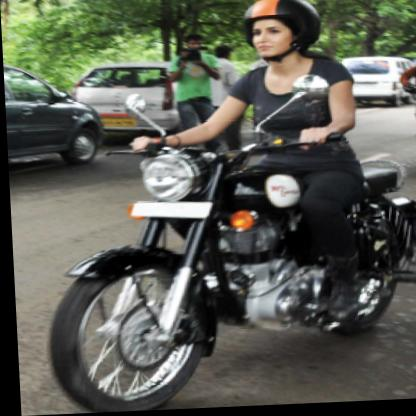With Helmet: (237, 0, 325, 63)
